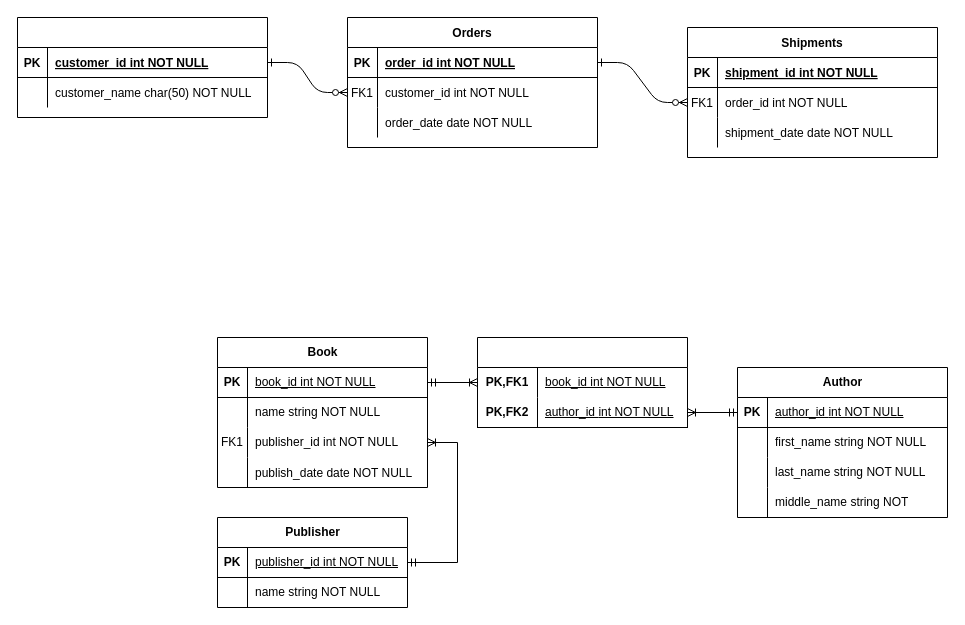
Some shapes in this 965 by 625 pixel diagram are drawn without their labels. Each missing label, with the box of its shape:
BookAuthor: (476, 336, 688, 428)
Customers: (16, 16, 268, 118)
